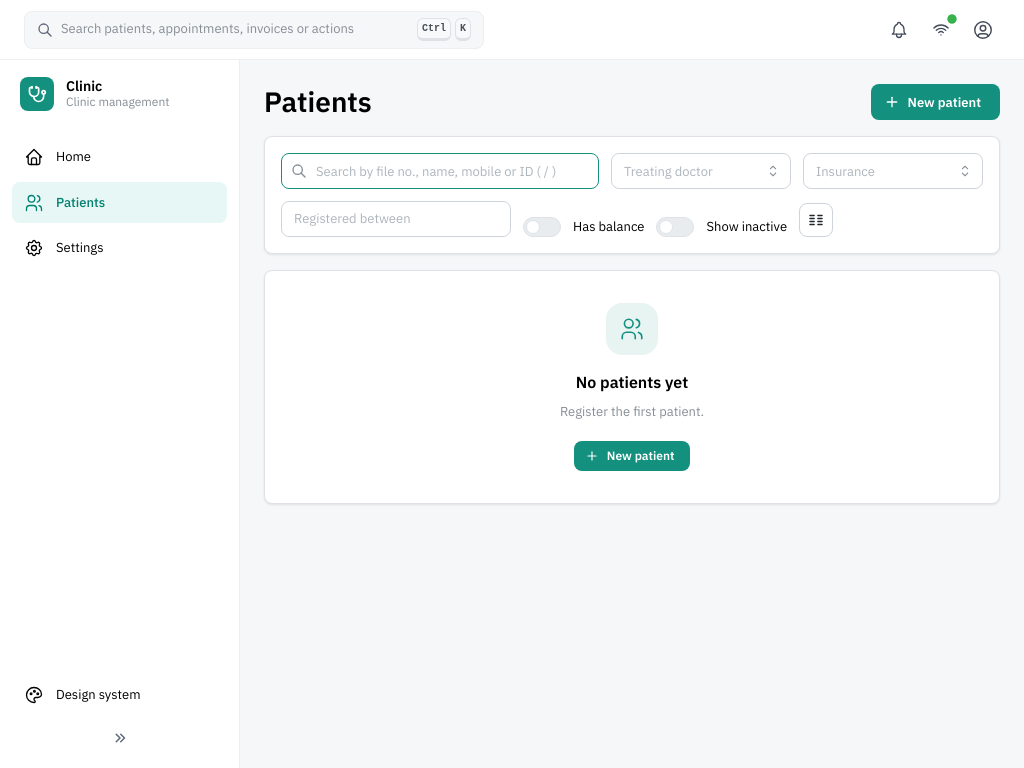
patient list › warns about a duplicate and can register anyway
Click the button with test id "new-patient": x=935, y=102 [870,84,1000,120]
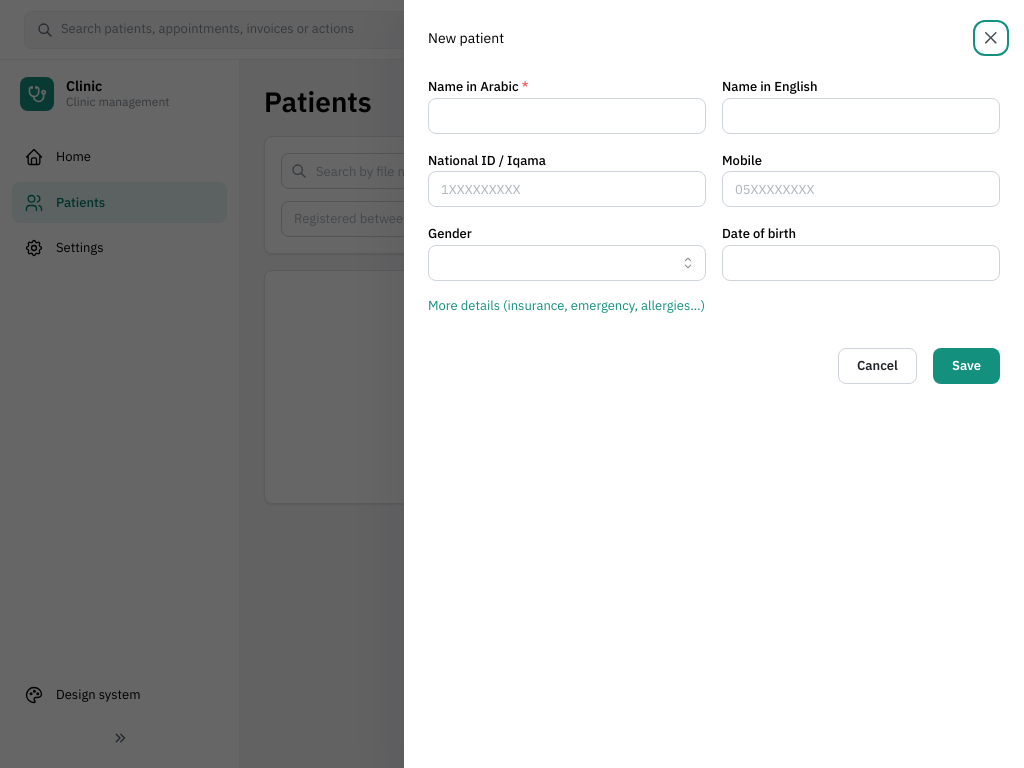
In the field named "name_ar": x=567, y=116 [428,98,706,134], type "فاطمة أخرى"
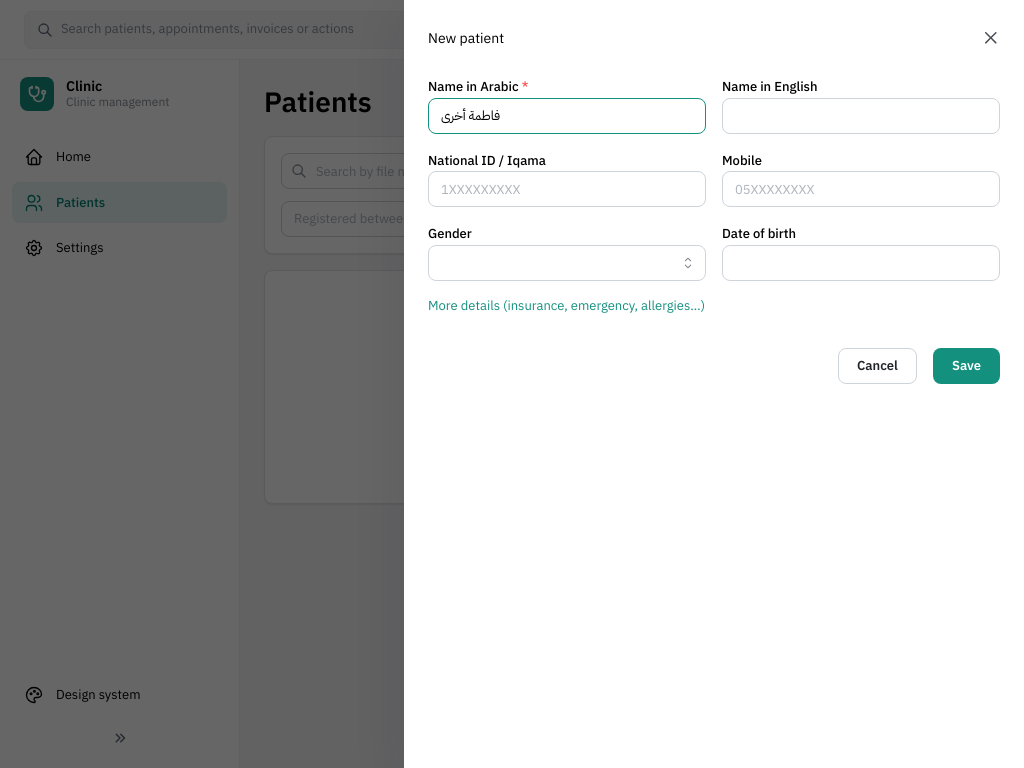
In the field named "mobile": x=861, y=189 [722,171,1000,207], type "0551000007"
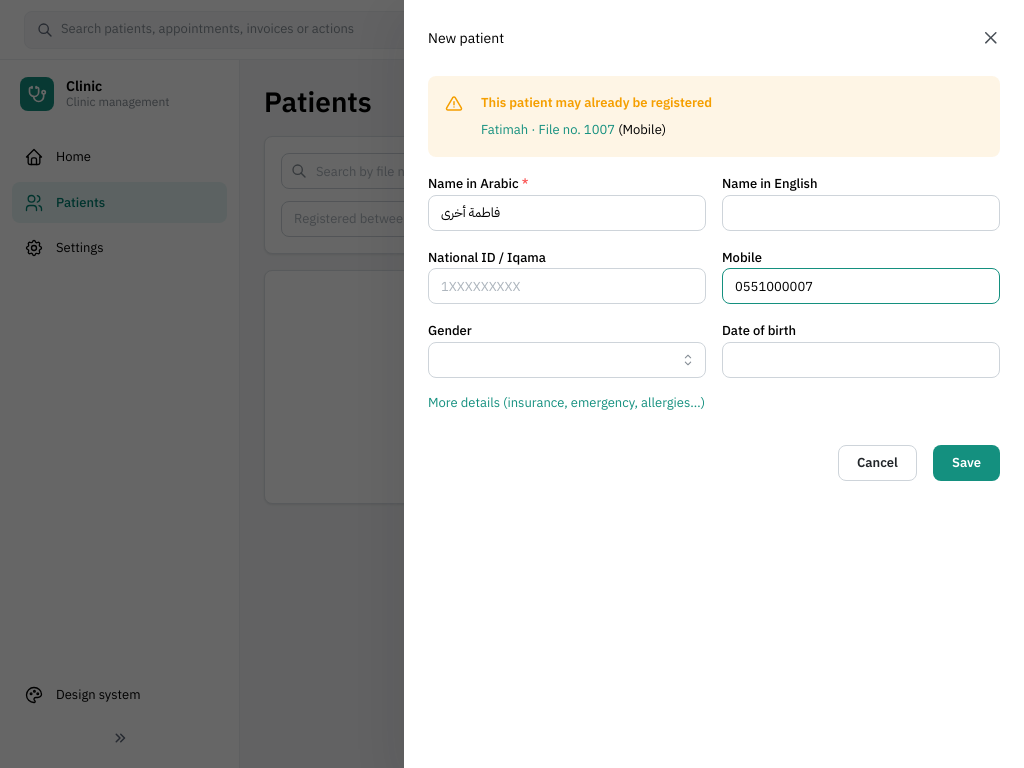
Expected: the message with test id "duplicate-alert" shows "File no. 1007", [428,76,1000,157]
Click the button "Save": x=966, y=463 [933,445,1000,481]
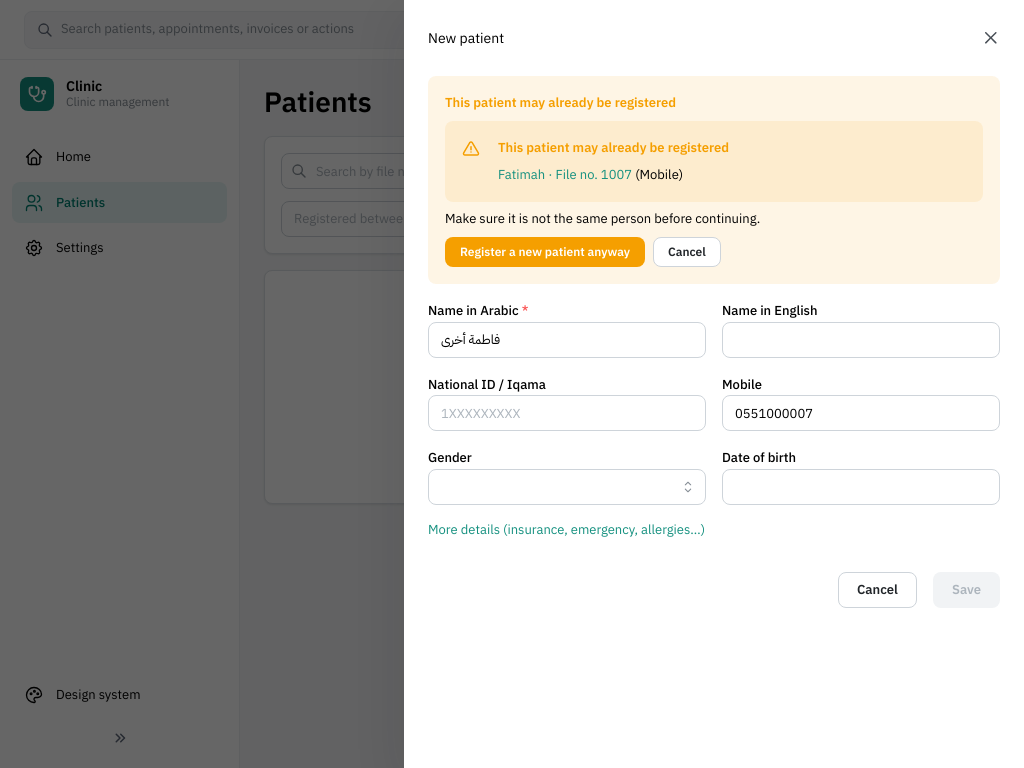
Click the button "Register a new patient anyway": x=545, y=252 [445,237,645,267]
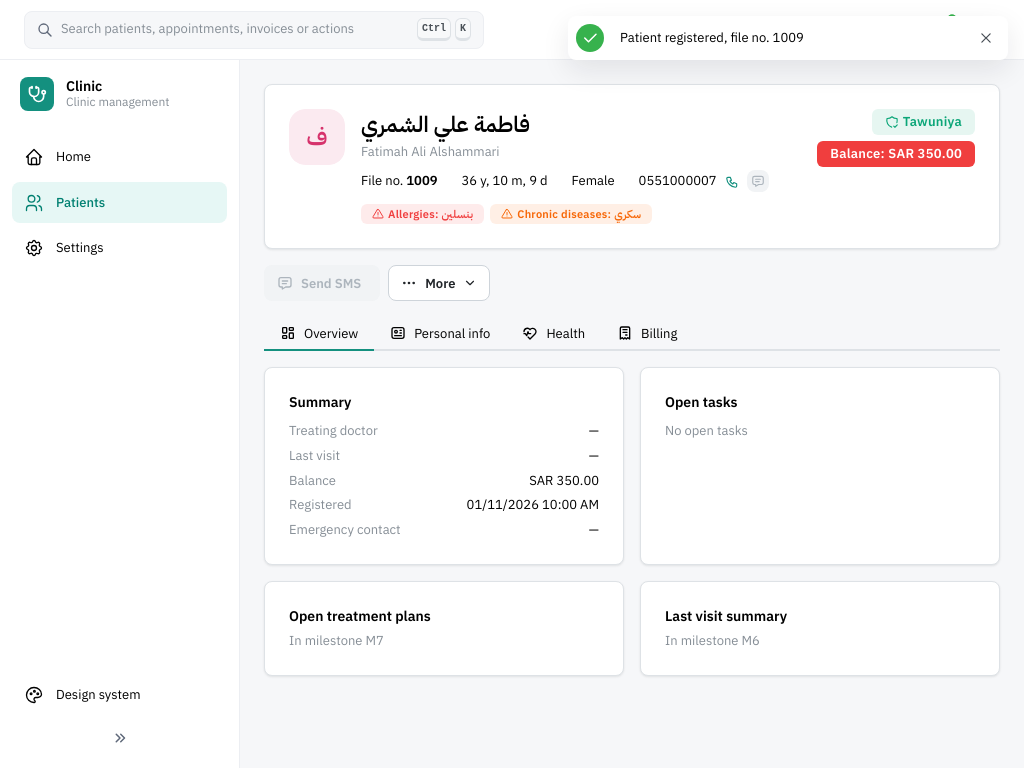
Expected: the text with test id "file-no" reads "1009", [406,172,438,190]
